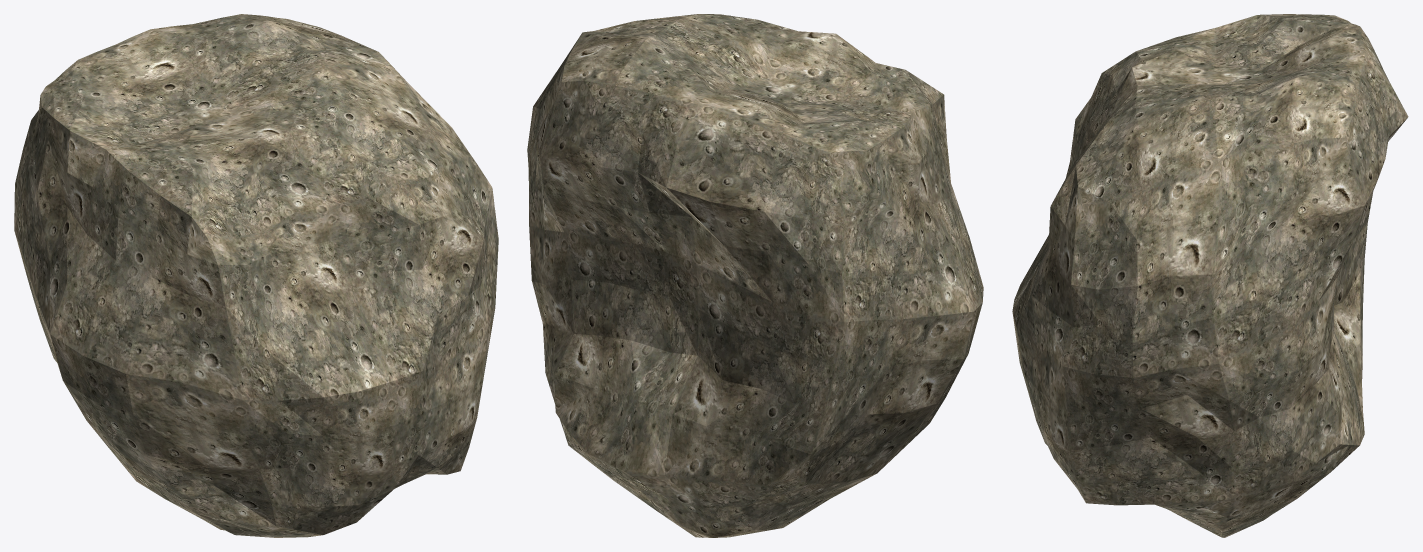
The model's file is asteroid_all_mammoth_01_l0.fbx.
The picture shows the model from 3 angles, left to right: view 1: azimuth 30°, elevation 25°; view 2: azimuth 150°, elevation 25°; view 3: azimuth 270°, elevation 25°; orthographic projection. The views are drawn at different scales.
Visible parts, largest first — view 1: mesh_node; view 2: mesh_node; view 3: mesh_node.
Part boxes in pixels (x1,y1,x2,y2): mesh_node: (14, 14, 498, 537); mesh_node: (527, 14, 983, 537); mesh_node: (1012, 14, 1408, 537).
Bounding box in the file's own units: 303 × 337 × 257.
